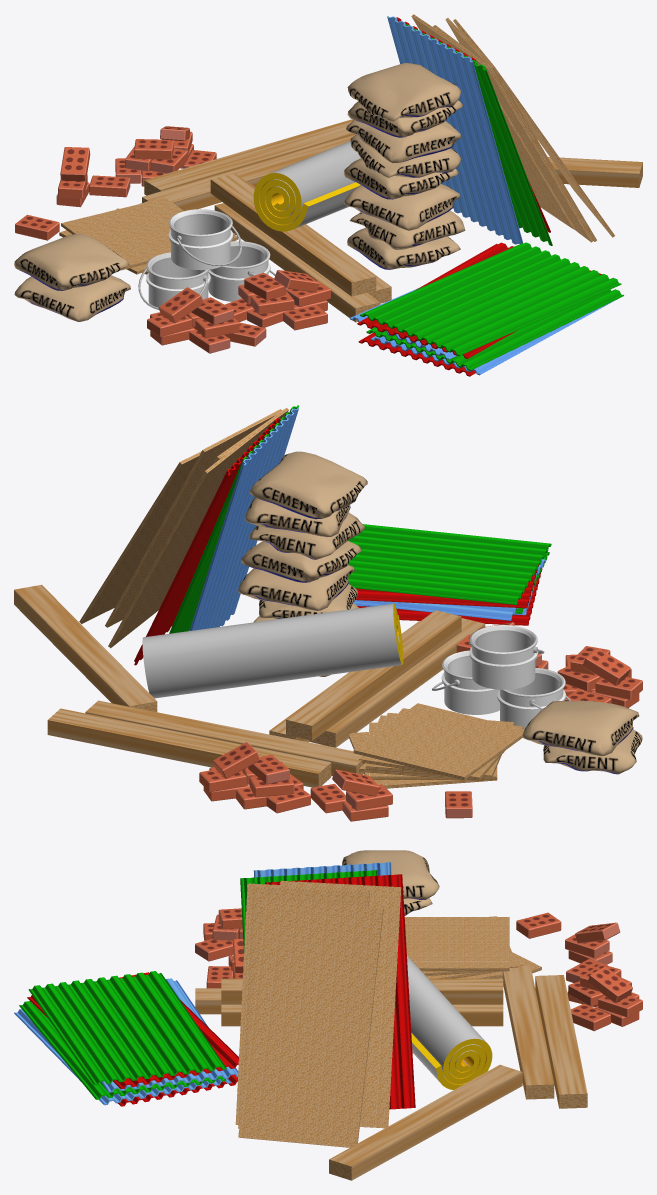
The model's file is materials.glb.
3 views of the same model, one above another, from view 1: azimuth 30°, elevation 25°; view 2: azimuth 150°, elevation 25°; view 3: azimuth 270°, elevation 25° (orthographic). The views are drawn at different scales.
Parts seen in each view (by area): view 1: CorrugatedBoard_G.001, CorrugatedBoard_B, Insulation, WoodenBar.002, FiberBoard.001, Cement.014, Cement.016, MixingPot.002, CorrugatedBoard_G, WoodenBar.010, Cement.009, Cement.015 (+36 smaller); view 2: Insulation, CorrugatedBoard_G.001, FiberBoard.001, CorrugatedBoard_B, WoodenBar.010, WoodenBar.002, WoodenBar.003, FiberBoard.009, Cement.014, Cement.016, WoodenBar.007, MixingPot.002 (+31 smaller); view 3: FiberBoard.007, CorrugatedBoard_G.001, WoodenBar.003, FiberBoard.009, Insulation, FiberBoard.001, WoodenBar.010, WoodenBar.007, CorrugatedBoard_R, FiberBoard.008, WoodenBar.002, Cement.016 (+20 smaller).
Boxes of the visible parts, box(x1,y1,x2,y2) form: CorrugatedBoard_G.001: box(360, 242, 621, 355); CorrugatedBoard_B: box(387, 16, 523, 244); Insulation: box(253, 141, 360, 231); WoodenBar.002: box(210, 173, 376, 296); FiberBoard.001: box(61, 197, 183, 270); Cement.014: box(347, 63, 460, 121); Cement.016: box(14, 233, 129, 290); MixingPot.002: box(168, 209, 241, 270); CorrugatedBoard_G: box(406, 24, 552, 245); WoodenBar.010: box(144, 119, 354, 195); Cement.009: box(344, 184, 460, 230); Cement.015: box(14, 275, 130, 321); Insulation: box(142, 603, 403, 698); CorrugatedBoard_G.001: box(348, 524, 551, 604); FiberBoard.001: box(353, 703, 524, 780); CorrugatedBoard_B: box(189, 407, 298, 630); WoodenBar.010: box(47, 708, 331, 787); WoodenBar.002: box(286, 610, 461, 740); WoodenBar.003: box(14, 584, 157, 711); FiberBoard.009: box(108, 419, 273, 648); Cement.014: box(250, 451, 367, 519); Cement.016: box(522, 700, 639, 755); WoodenBar.007: box(85, 700, 364, 775); MixingPot.002: box(469, 625, 544, 689); FiberBoard.007: box(238, 898, 383, 1147); CorrugatedBoard_G.001: box(28, 971, 226, 1085); WoodenBar.003: box(329, 1064, 522, 1180); FiberBoard.009: box(280, 880, 401, 1128); Insulation: box(407, 956, 492, 1089); FiberBoard.001: box(404, 917, 509, 971); WoodenBar.010: box(535, 975, 587, 1108); WoodenBar.007: box(502, 965, 554, 1099); CorrugatedBoard_R: box(265, 874, 415, 1109); FiberBoard.008: box(238, 887, 369, 1128); WoodenBar.002: box(221, 978, 503, 1004); Cement.016: box(342, 850, 439, 900).
Size of the model in its own units: 7.48 by 2.43 by 6.72.
Materials: 1 (1 with a texture image).
